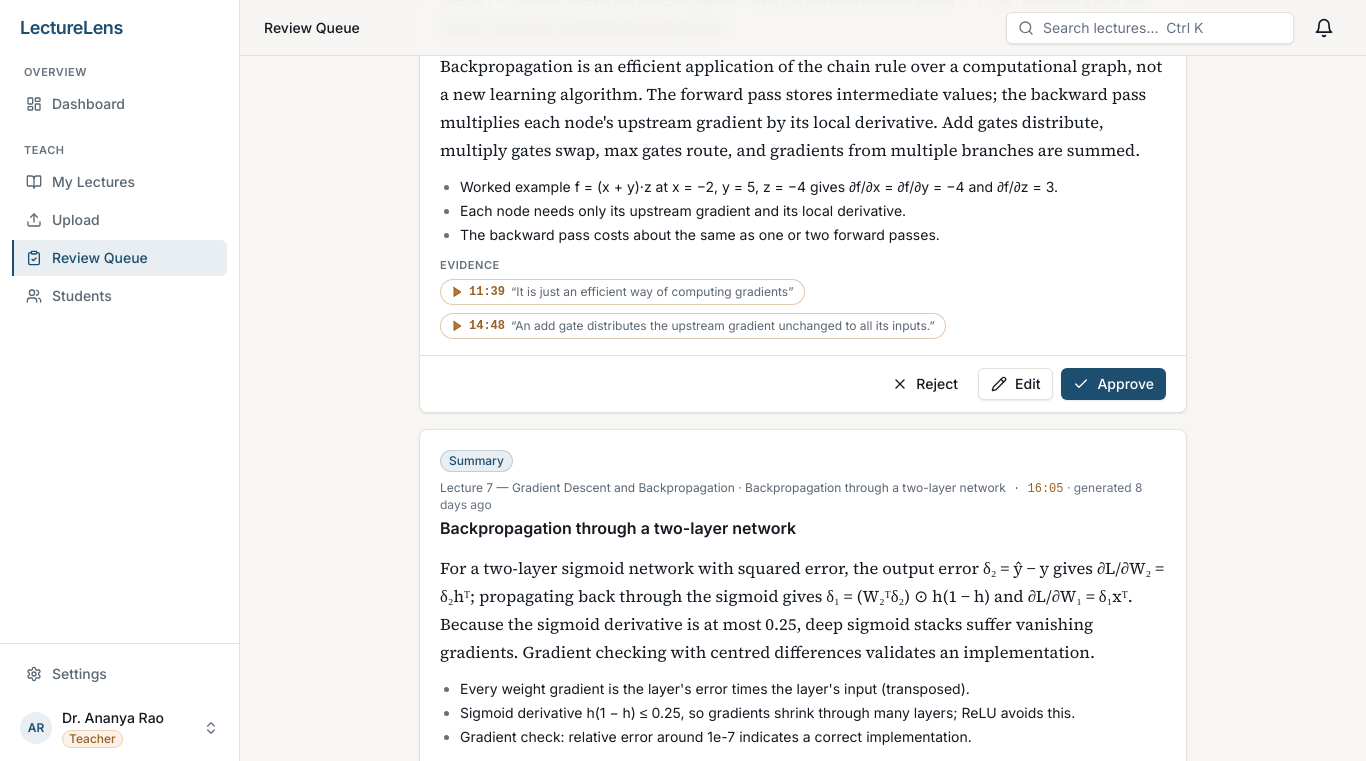
Test case: review queue › approve is optimistic and rolls back with a toast on error
This screenshot has width=1366, height=761.
(page scrolled)
Click the button with aria-label "Approve summary: Chain rule and computational graphs" at (1114, 384), box 1061,368 -> 1166,400
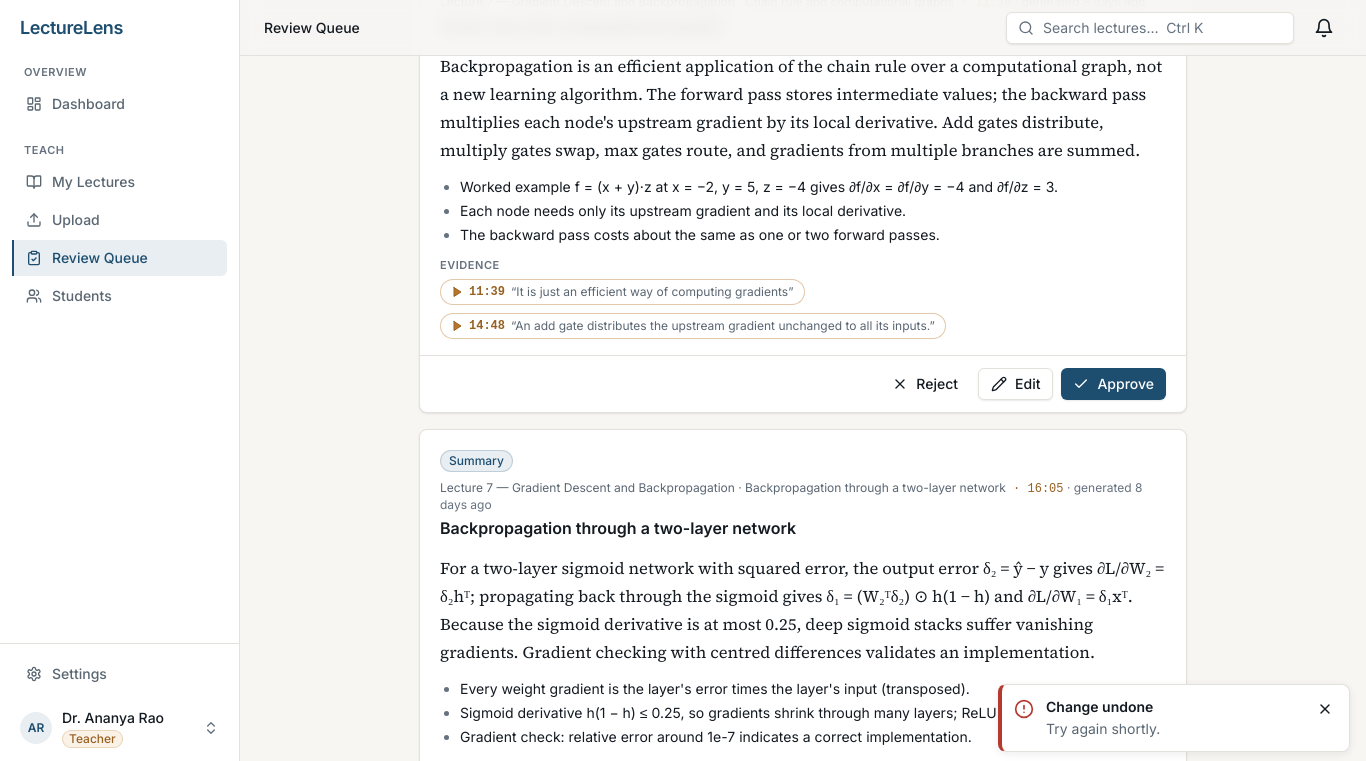
Now the text "Change undone" is shown, box 1046,698 -> 1153,715
Click the button with aria-label "Approve summary: Chain rule and computational graphs" at (1114, 384), box 1061,368 -> 1166,400
(page scrolled)
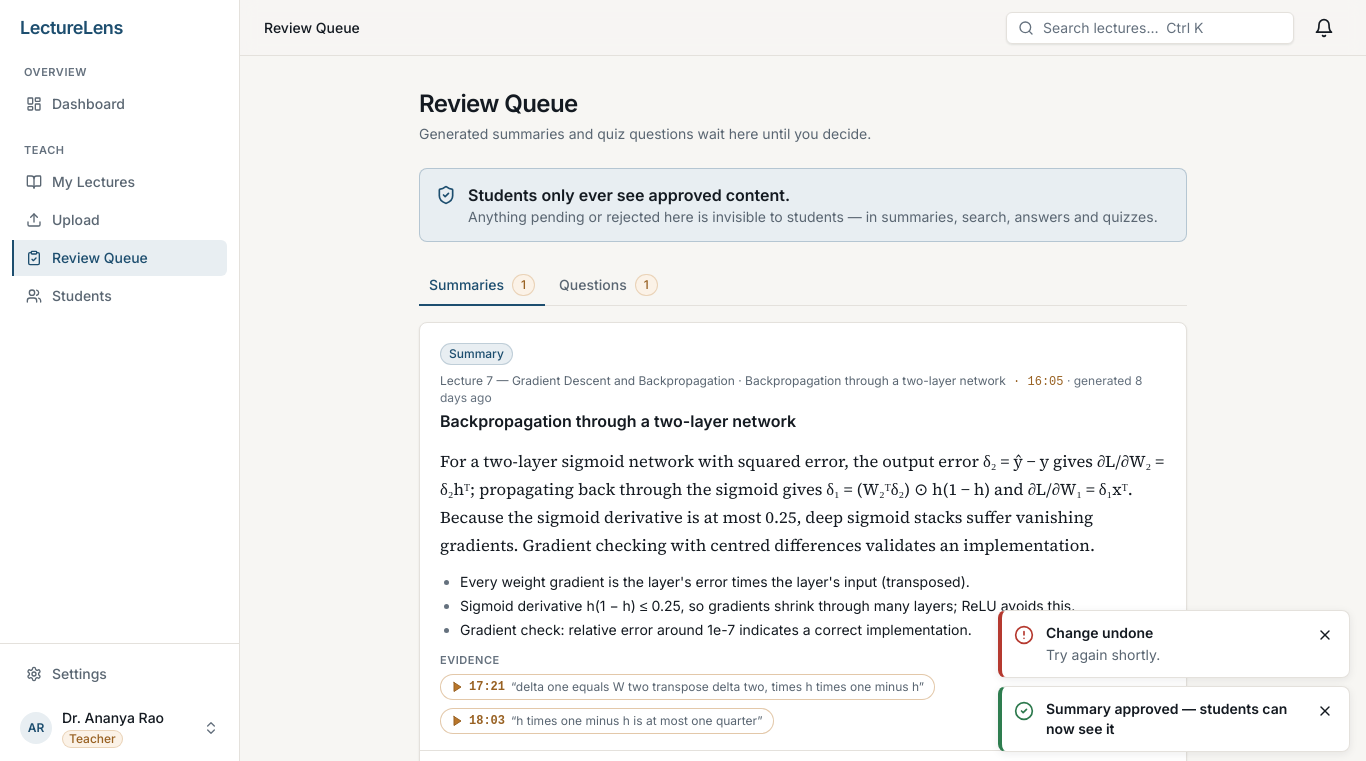
Now the text "Summary approved — students can now see it" is shown, box 1046,699 -> 1297,739
